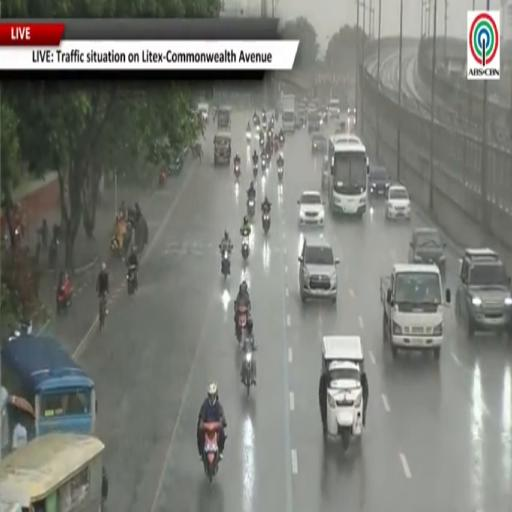bus: (2, 335, 97, 438), (328, 134, 369, 217), (328, 99, 341, 120)
car: (456, 249, 511, 337), (298, 237, 339, 302), (408, 228, 446, 278), (298, 190, 324, 227), (385, 185, 411, 219), (369, 166, 390, 196), (311, 133, 327, 154), (197, 102, 209, 123), (347, 108, 357, 127)
jeepney: (0, 432, 107, 511), (321, 336, 364, 450), (214, 132, 231, 165), (216, 106, 231, 130)
motorcycle: (201, 423, 221, 483), (57, 281, 73, 313), (242, 350, 253, 396), (8, 320, 32, 341), (236, 304, 248, 343), (48, 236, 59, 269), (126, 266, 136, 296), (221, 250, 230, 278), (242, 236, 250, 261), (262, 211, 270, 234), (247, 198, 255, 217), (159, 169, 167, 187), (234, 163, 241, 179), (261, 154, 267, 171), (277, 166, 283, 182), (274, 136, 279, 152), (259, 135, 264, 148), (253, 164, 257, 178), (246, 132, 251, 143), (253, 115, 258, 126), (262, 119, 266, 132), (280, 135, 284, 147)
truck: (381, 264, 450, 360), (282, 94, 296, 132)
